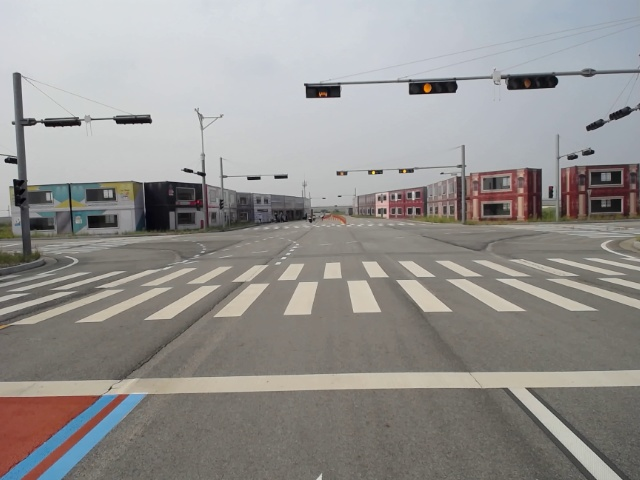orange_4: (506, 75, 558, 91), (408, 80, 459, 96)
